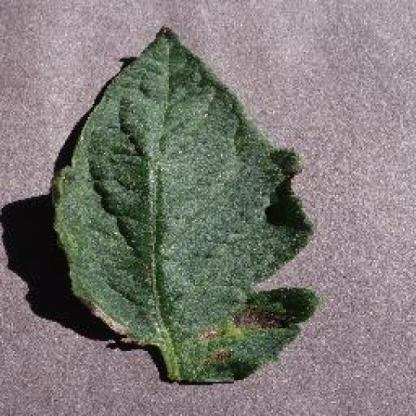Tomato_Blight: (53, 28, 315, 382)
